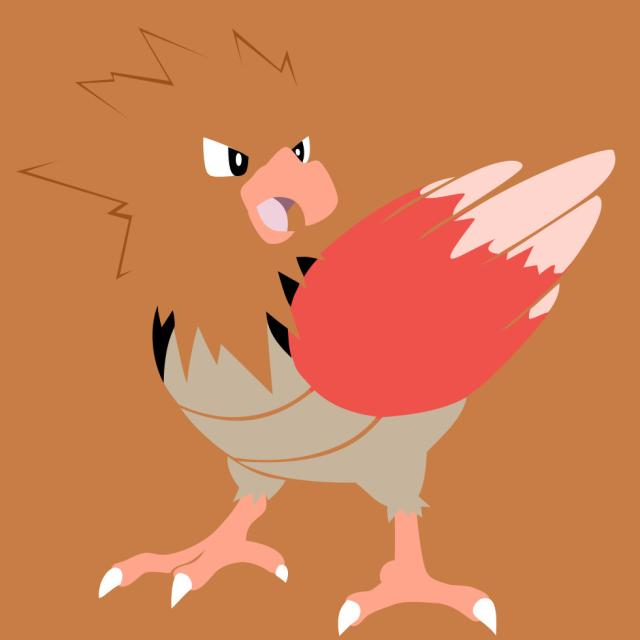Spearow: (102, 35, 552, 602)
